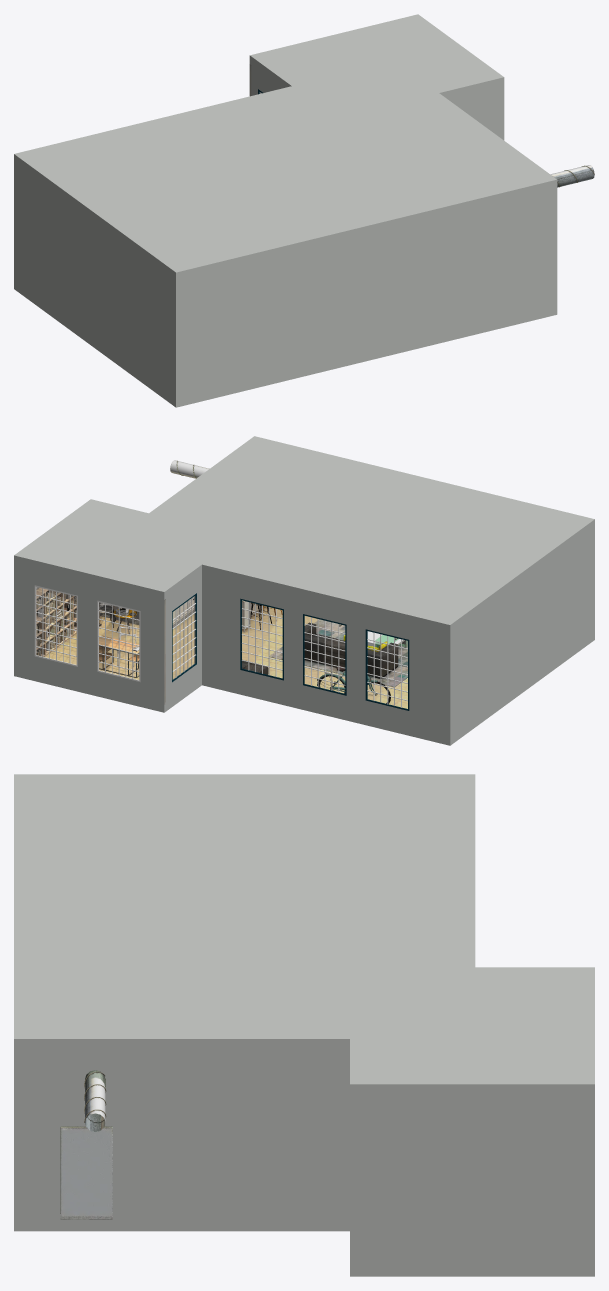
The model's file is big_room.glb.
3 renders of one model, top to bottom at view 1: azimuth 30°, elevation 25°; view 2: azimuth 150°, elevation 25°; view 3: azimuth 270°, elevation 25°, orthographic. The views are drawn at different scales.
Parts seen in each view (by area): view 1: Object_5, Object_19; view 2: Object_5, Object_62, Object_81, Object_70, Object_57, Object_2, Object_19, Object_63; view 3: Object_5, Object_3, Object_19.
Part boxes in pixels (<box>): Object_5: <box>14,14,557,407</box>; Object_19: <box>550,165,594,187</box>; Object_5: <box>14,436,594,745</box>; Object_62: <box>36,587,407,708</box>; Object_81: <box>242,622,398,678</box>; Object_70: <box>36,587,100,656</box>; Object_57: <box>99,626,139,677</box>; Object_2: <box>317,665,390,703</box>; Object_19: <box>170,460,397,639</box>; Object_63: <box>99,602,138,634</box>; Object_5: <box>14,774,594,1276</box>; Object_3: <box>60,1126,112,1219</box>; Object_19: <box>84,1070,106,1132</box>.
Bounding box in the file's own units: 626 × 181 × 496.
25 materials, 25 textured.
